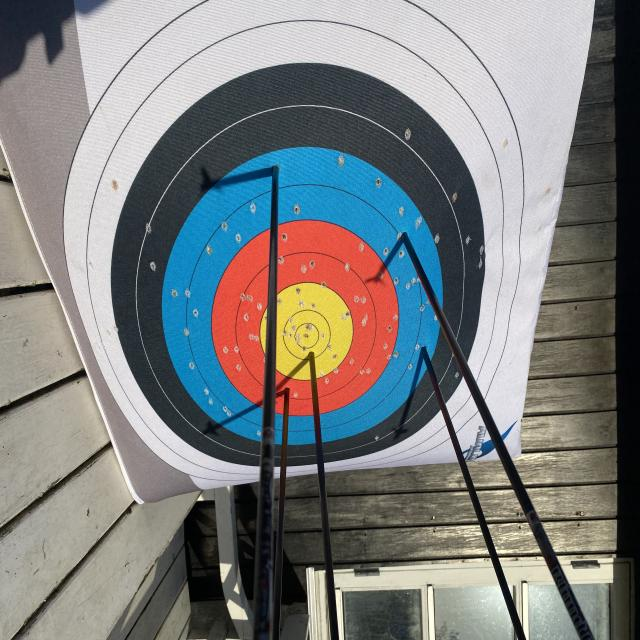Arrow_Blue: (262, 153, 294, 190), (410, 334, 436, 372), (395, 220, 418, 251)
Arrow_Red: (274, 374, 296, 419)
Arrow_Yellow: (299, 343, 328, 379)
